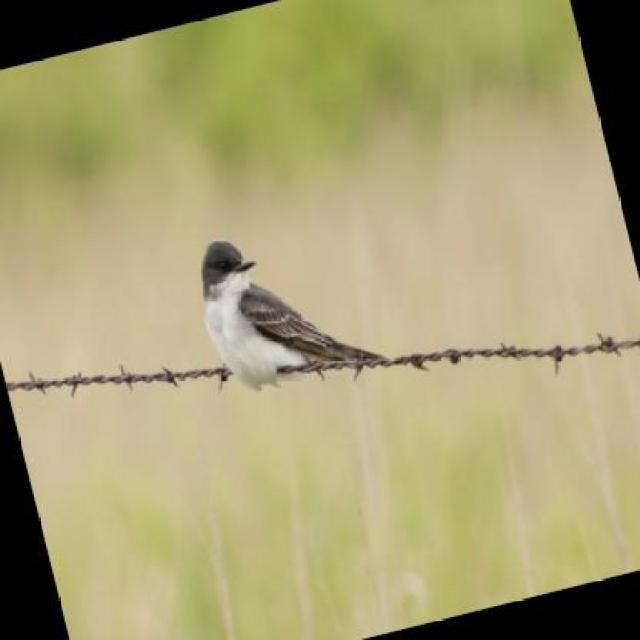Bird: (180, 232, 387, 385)
